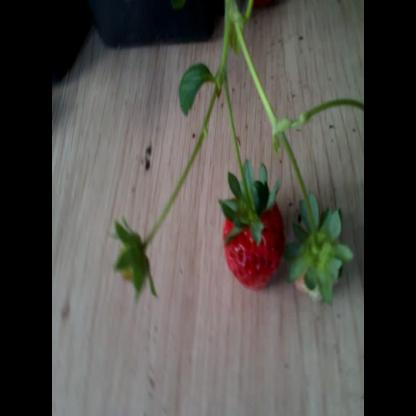ripe: (224, 176, 287, 286)
